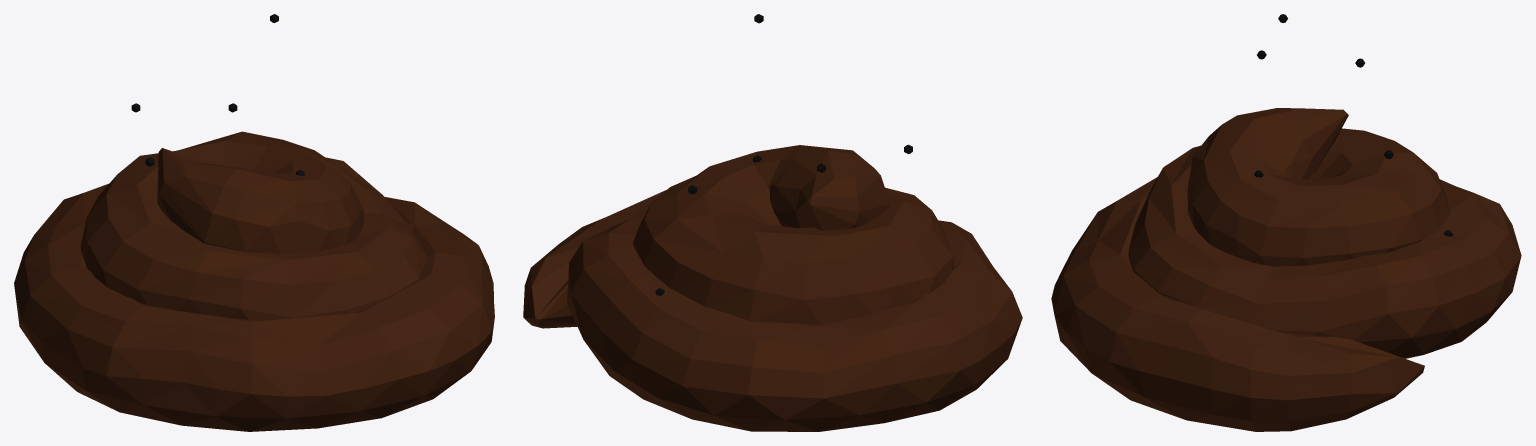
The model's file is shit.FBX.
3 views of the same model, side by side, from view 1: azimuth 30°, elevation 25°; view 2: azimuth 150°, elevation 25°; view 3: azimuth 270°, elevation 25° (orthographic). The views are drawn at different scales.
Parts seen in each view (by area): view 1: Helix001; view 2: Helix001; view 3: Helix001.
Part boxes in pixels (box(x1,y1,x2,y2)): Helix001: box(14, 14, 494, 431); Helix001: box(523, 14, 1022, 431); Helix001: box(1051, 14, 1521, 431).
Size of the model in its own units: 47 by 35.91 by 45.08.
